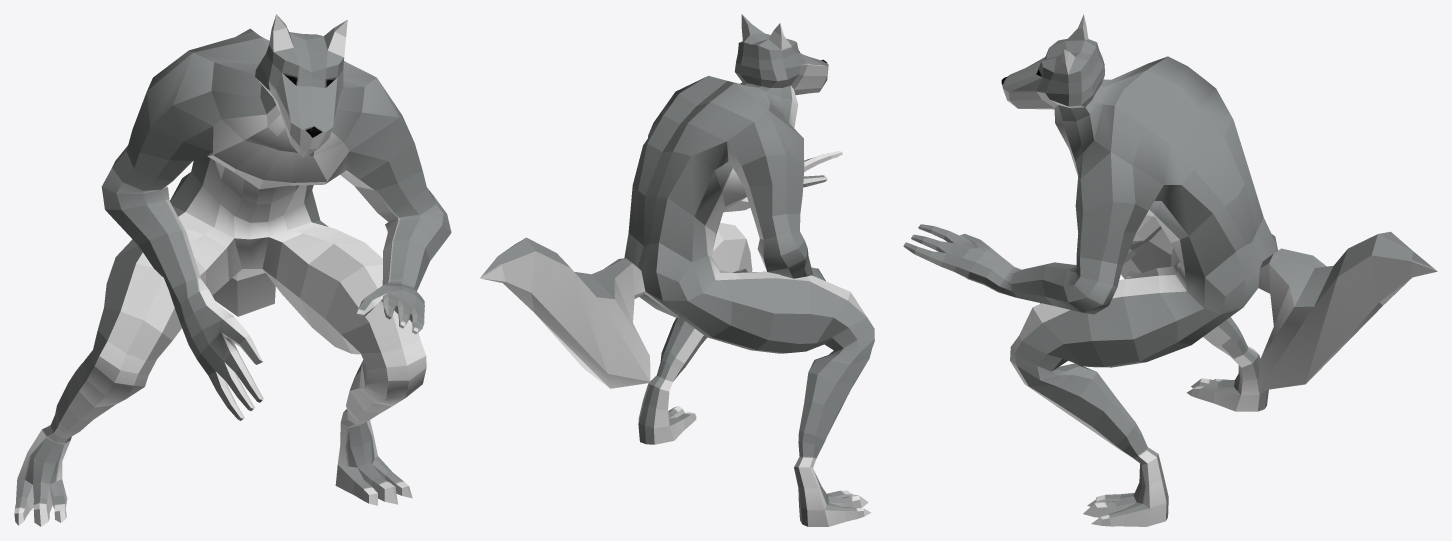
File: WolfAttack(88).obj
The picture shows the model from 3 angles, left to right: view 1: azimuth 30°, elevation 25°; view 2: azimuth 150°, elevation 25°; view 3: azimuth 270°, elevation 25°; orthographic projection. The views are drawn at different scales.
Parts seen in each view (by area): view 1: Box001; view 2: Box001; view 3: Box001.
Part boxes in pixels (left/top/right/bottom): Box001: left=14, top=14, right=451, bottom=526; Box001: left=480, top=14, right=874, bottom=526; Box001: left=903, top=14, right=1437, bottom=526.
Size of the model in its own units: 83.04 by 116 by 124.
